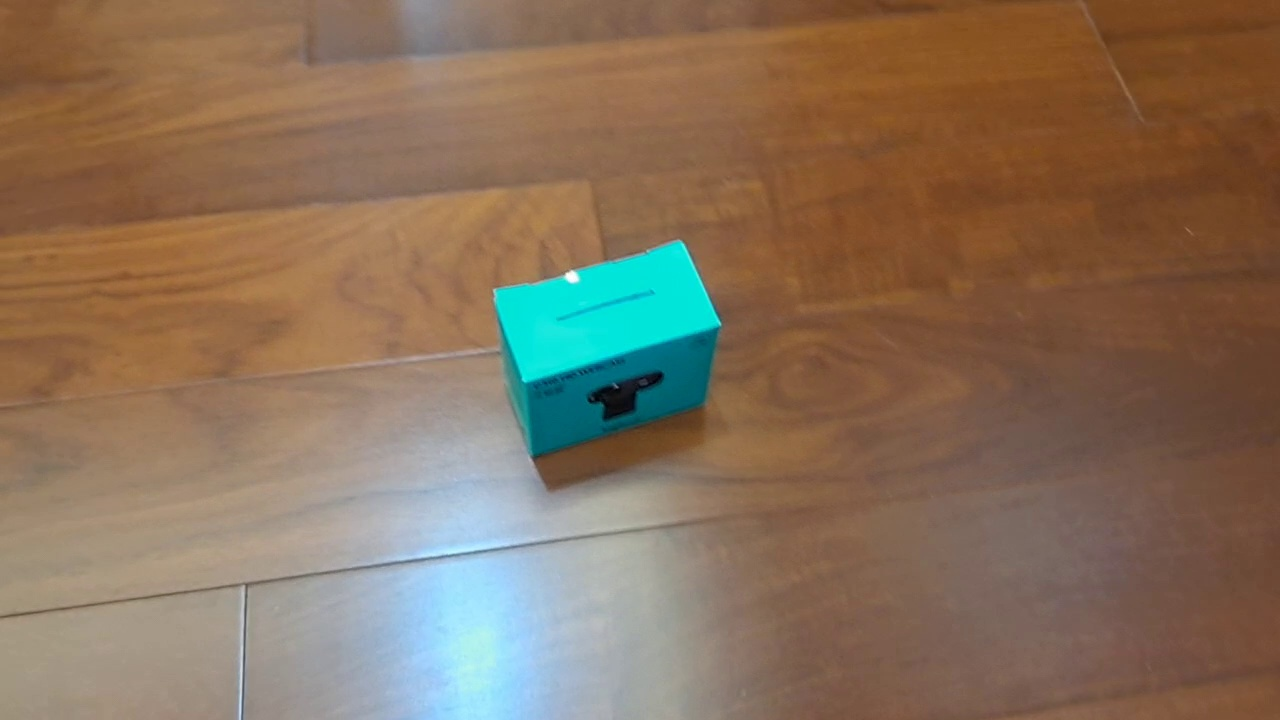webcam: (491, 238, 724, 461)
